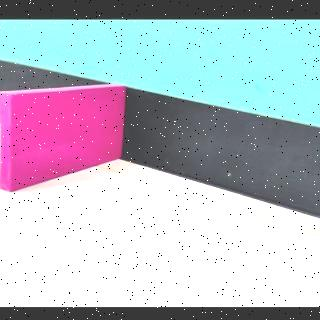xparking: (9, 93, 117, 182)
